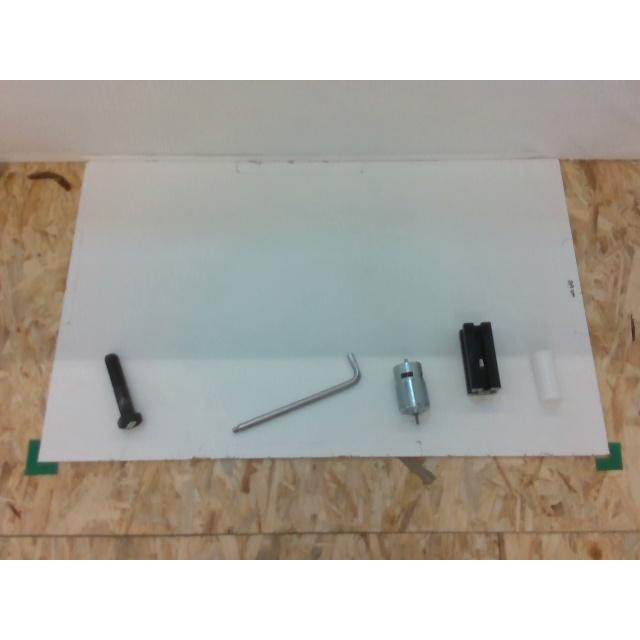AllenKey: (232, 352, 361, 432)
M20_100: (104, 353, 142, 427)
Motor2: (392, 357, 432, 428)
S40_40_B: (460, 321, 500, 393)
Spacer: (532, 350, 560, 400)
